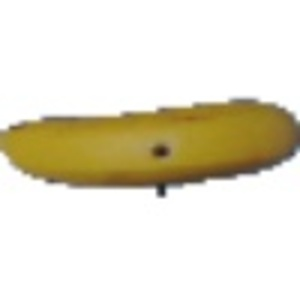banana: (2, 97, 298, 189)
